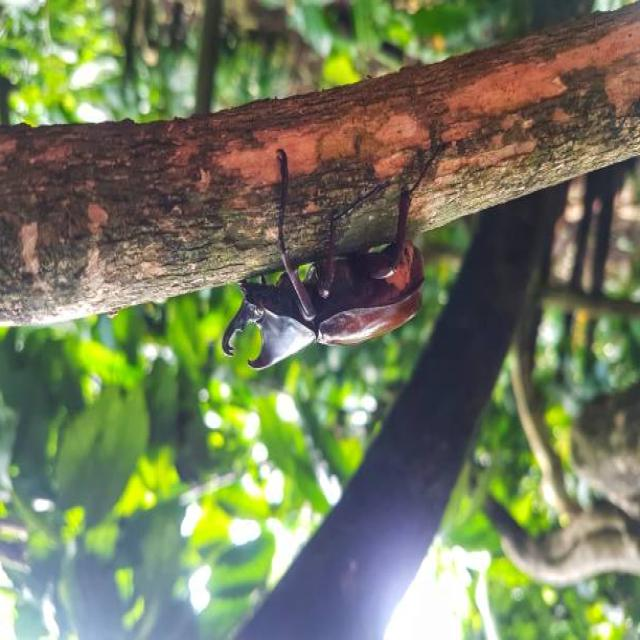Rhino-beetle: (222, 152, 468, 380)
